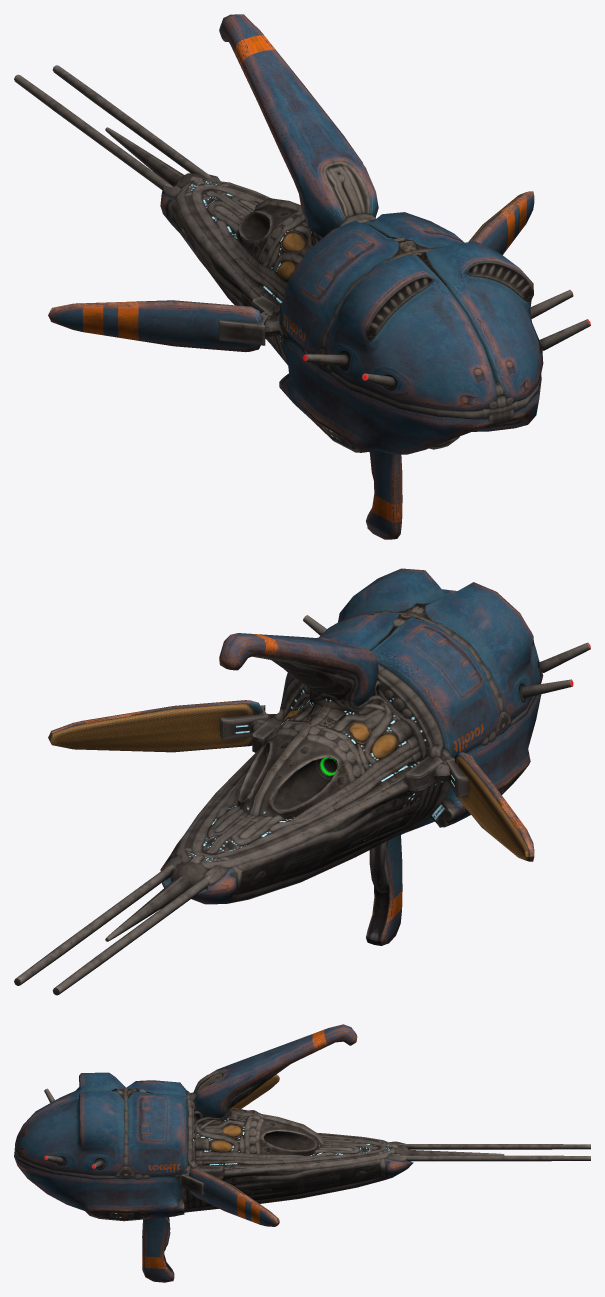
File: alien-probe.glb
The picture shows the model from 3 angles, top to bottom: view 1: azimuth 30°, elevation 25°; view 2: azimuth 150°, elevation 25°; view 3: azimuth 270°, elevation 25°; orthographic projection. The views are drawn at different scales.
Parts seen in each view (by area): view 1: Object001_default_0; view 2: Object001_default_0; view 3: Object001_default_0.
Boxes of the visible parts, left/top/right/bottom form: Object001_default_0: left=14, top=14, right=590, bottom=539; Object001_default_0: left=14, top=568, right=590, bottom=995; Object001_default_0: left=14, top=1024, right=590, bottom=1282.
Size of the model in its own units: 7.77 by 6.3 by 12.9.
1 material, 1 textured.
